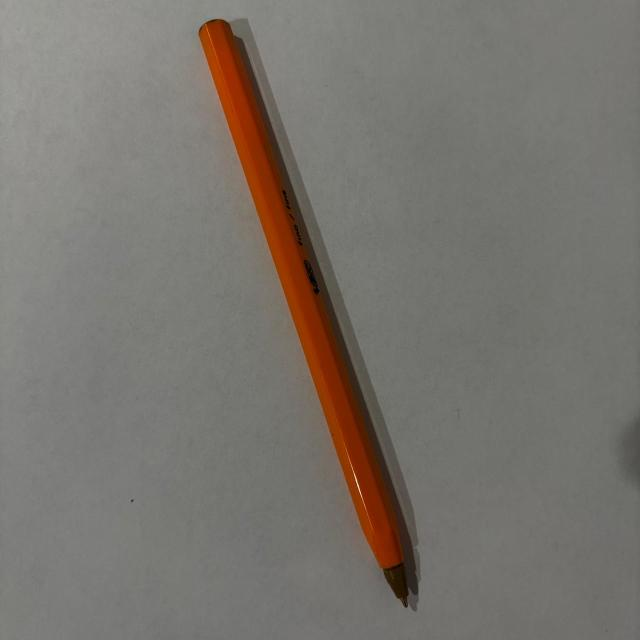pencil: (197, 18, 409, 609)
